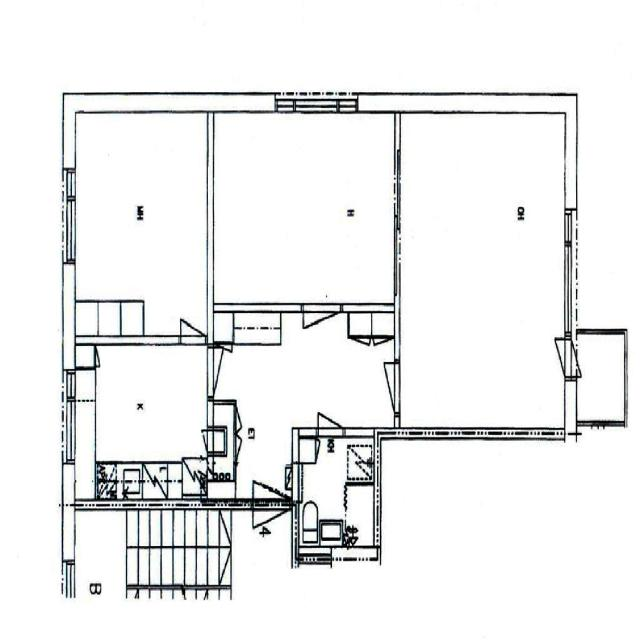door: (302, 302, 341, 369), (253, 498, 290, 566), (253, 442, 290, 510), (361, 363, 399, 412), (207, 348, 245, 394), (565, 338, 603, 376), (539, 338, 577, 376), (180, 297, 206, 345), (316, 389, 342, 436), (233, 433, 254, 460), (233, 406, 254, 433), (196, 431, 213, 450)
